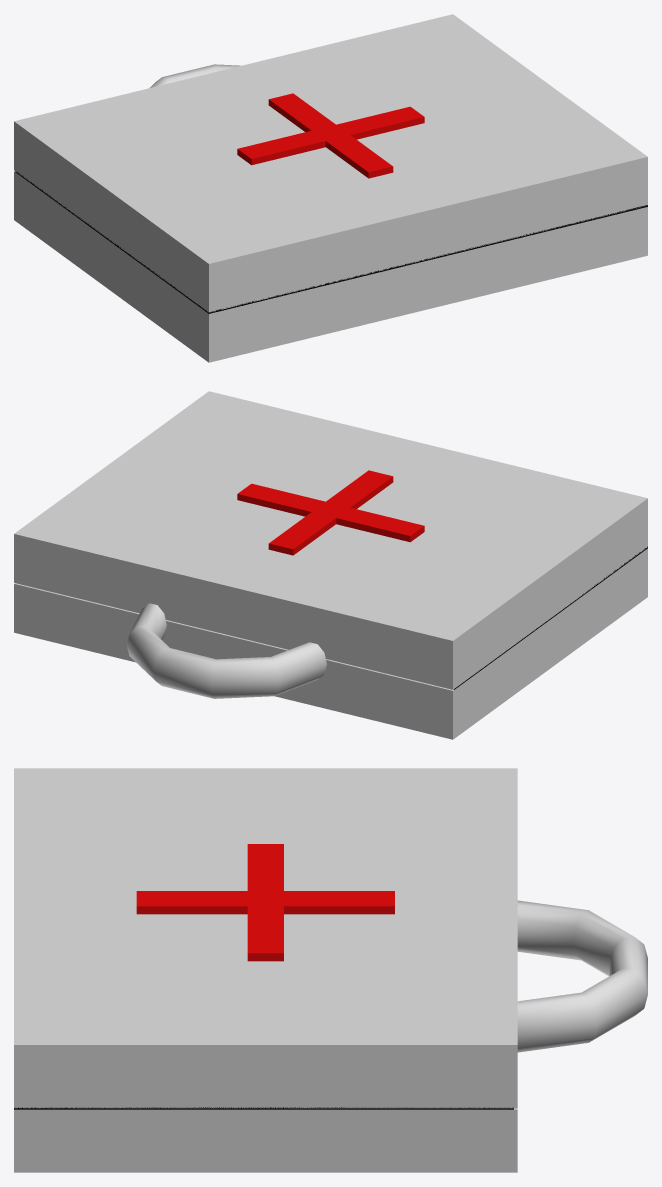
Rendered from help.fbx.
3 renders of one model, top to bottom at view 1: azimuth 30°, elevation 25°; view 2: azimuth 150°, elevation 25°; view 3: azimuth 270°, elevation 25°, orthographic. The views are drawn at different scales.
Parts seen in each view (by area): view 1: pCube6; view 2: pCube6; view 3: pCube6.
Part boxes in pixels (box(x1,y1,x2,y2)): pCube6: box(14, 14, 647, 362); pCube6: box(14, 391, 647, 739); pCube6: box(14, 768, 647, 1172).
Bounding box in the file's own units: 9.25 × 2.11 × 8.95.
